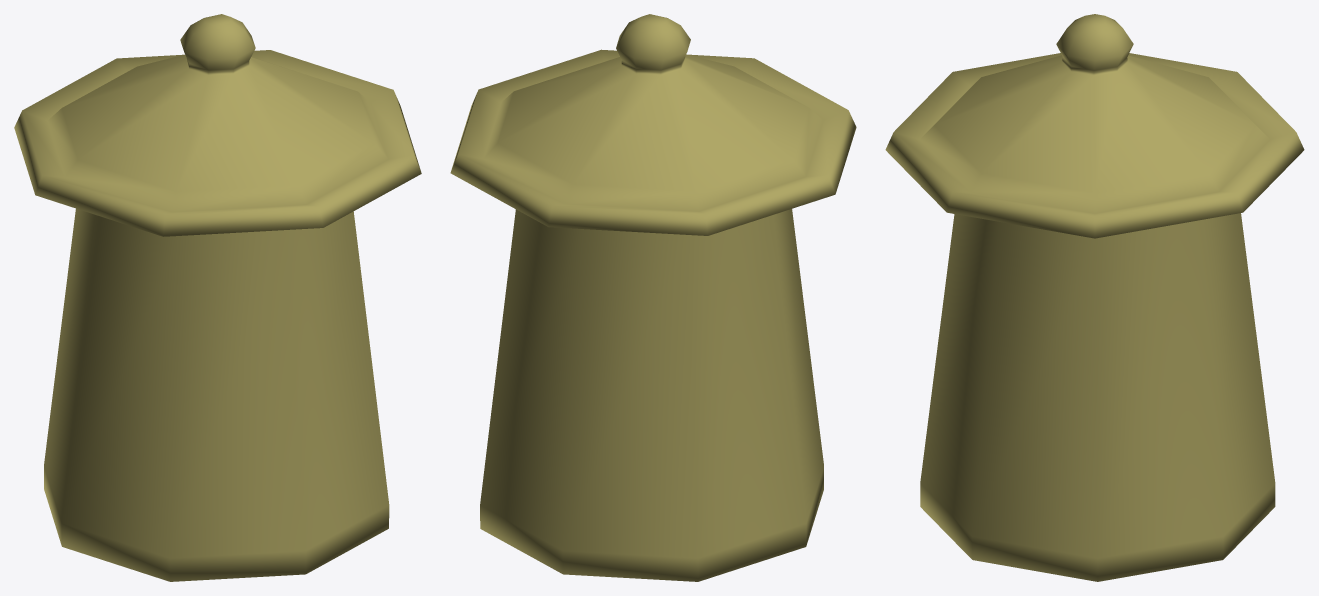
Rendered from SugarJar.fbx.
3 renders of one model, left to right at view 1: azimuth 30°, elevation 25°; view 2: azimuth 150°, elevation 25°; view 3: azimuth 270°, elevation 25°, orthographic.
Parts seen in each view (by area): view 1: Sugar_Jar_01, Sugar_Jar_02; view 2: Sugar_Jar_01, Sugar_Jar_02; view 3: Sugar_Jar_01, Sugar_Jar_02.
Boxes of the visible parts, x1,y1,x2,y2 form: Sugar_Jar_01: [44, 208, 389, 581]; Sugar_Jar_02: [14, 14, 421, 236]; Sugar_Jar_01: [480, 209, 823, 581]; Sugar_Jar_02: [450, 14, 856, 235]; Sugar_Jar_01: [920, 213, 1275, 581]; Sugar_Jar_02: [885, 14, 1304, 238].
Bounding box in the file's own units: 1.22 × 1.59 × 1.22.
